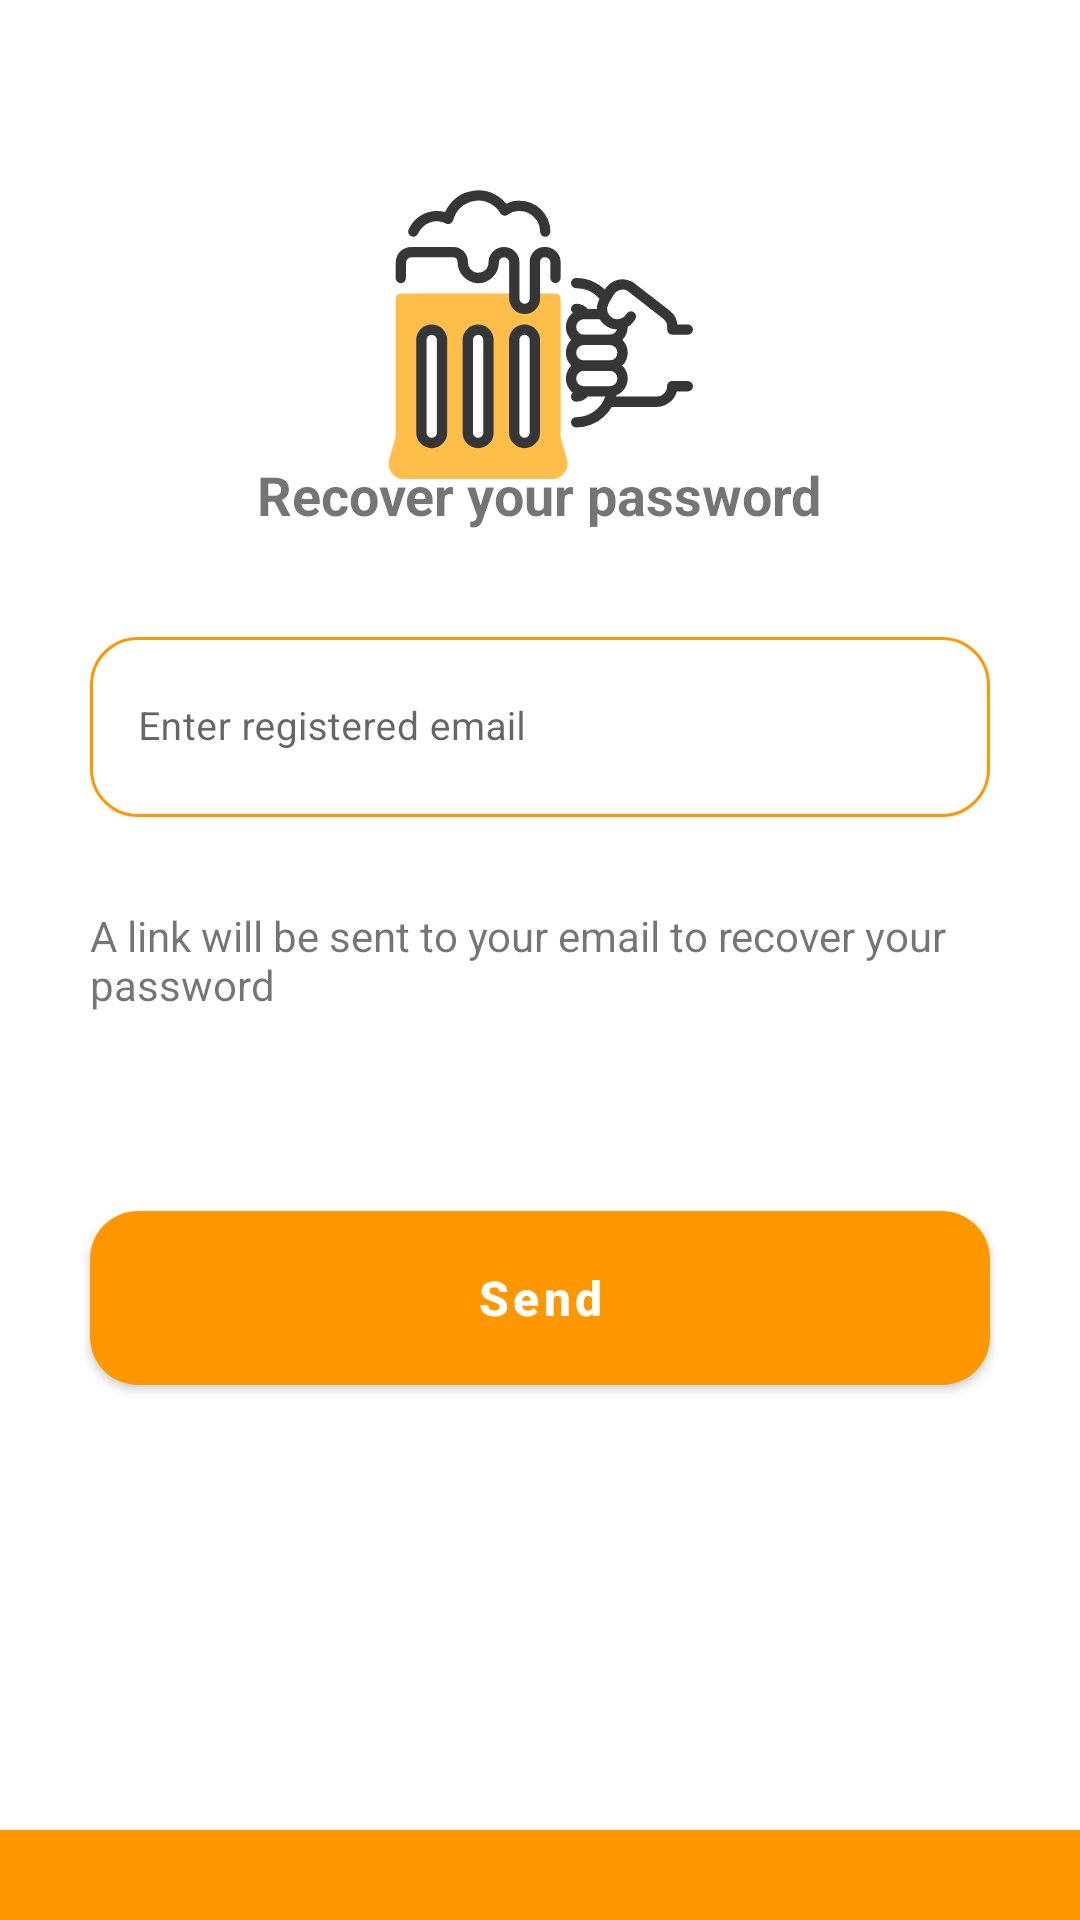

Where to tap for icons on this 1080 x 1920 app screen, as [x,y]:
beer: [540,334]
